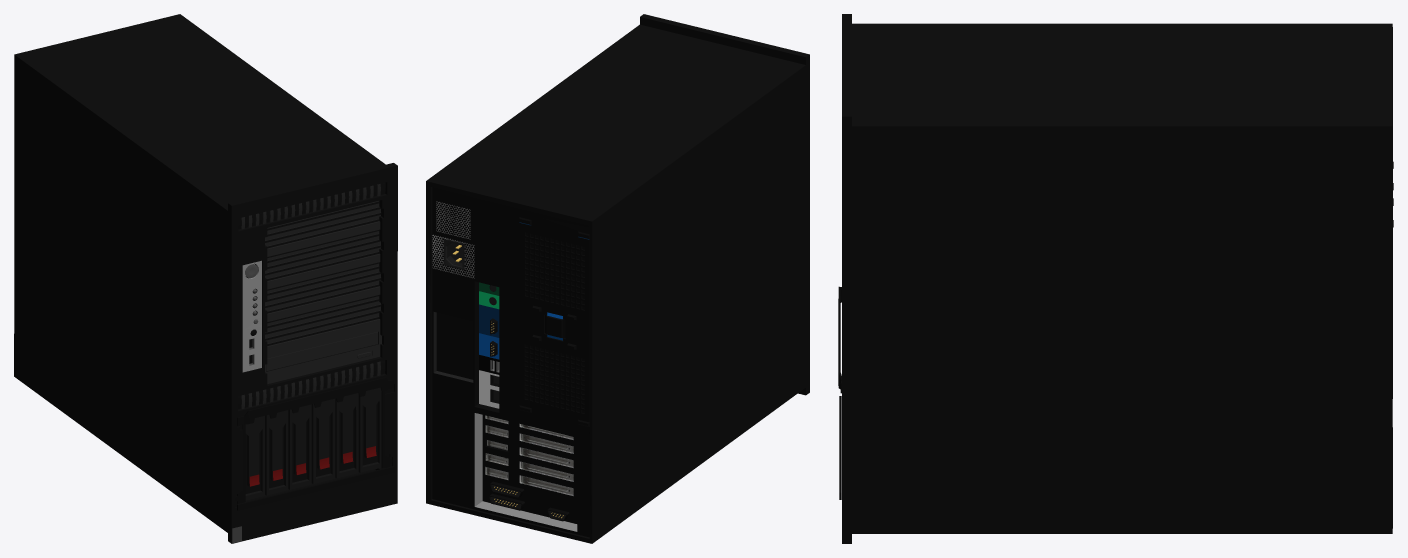
3 renders of one model, left to right at view 1: azimuth 30°, elevation 25°; view 2: azimuth 150°, elevation 25°; view 3: azimuth 270°, elevation 25°, orthographic. The views are drawn at different scales.
Parts seen in each view (by area): view 1: HPE_DL350_G5; view 2: HPE_DL350_G5; view 3: HPE_DL350_G5.
Boxes of the visible parts, <box> form: HPE_DL350_G5: <box>14,14,397,543</box>; HPE_DL350_G5: <box>426,14,809,543</box>; HPE_DL350_G5: <box>838,14,1393,543</box>.
Bounding box in the file's own units: 247 × 480 × 565.
21 materials, 2 textured.
